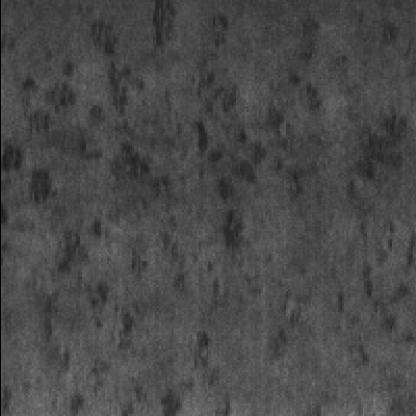rolled-in_scale: (4, 4, 291, 258), (22, 140, 216, 414), (335, 214, 416, 376), (343, 107, 416, 228)
